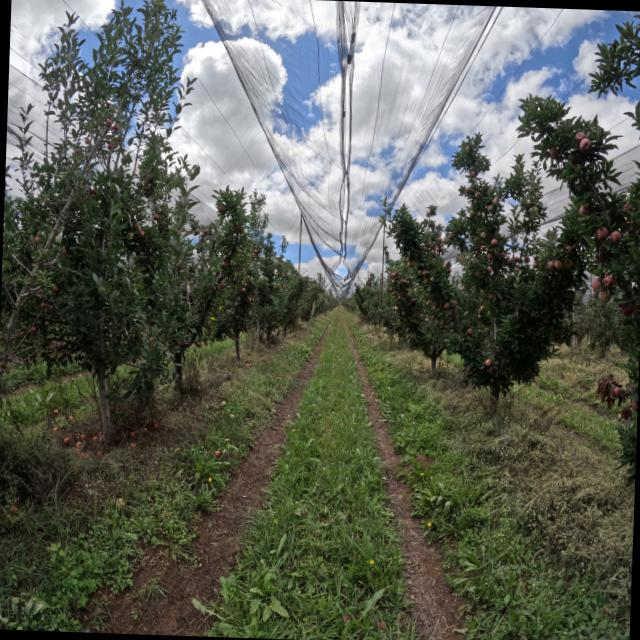-FireBlight-: (595, 374, 624, 410)
